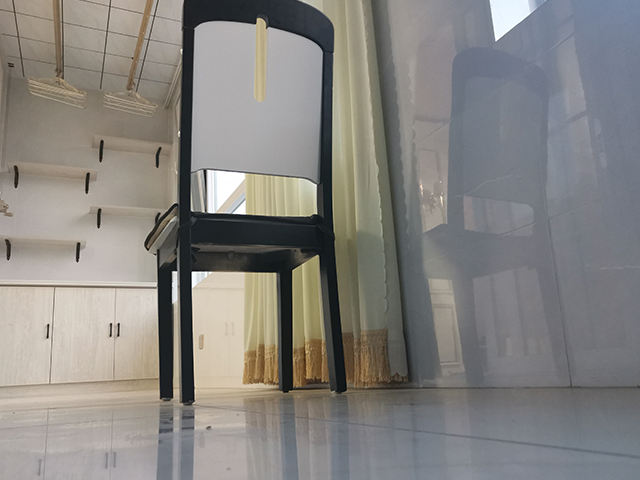cabinet: (1, 279, 160, 398)
curtain: (238, 1, 412, 390)
stool: (140, 1, 349, 408)
